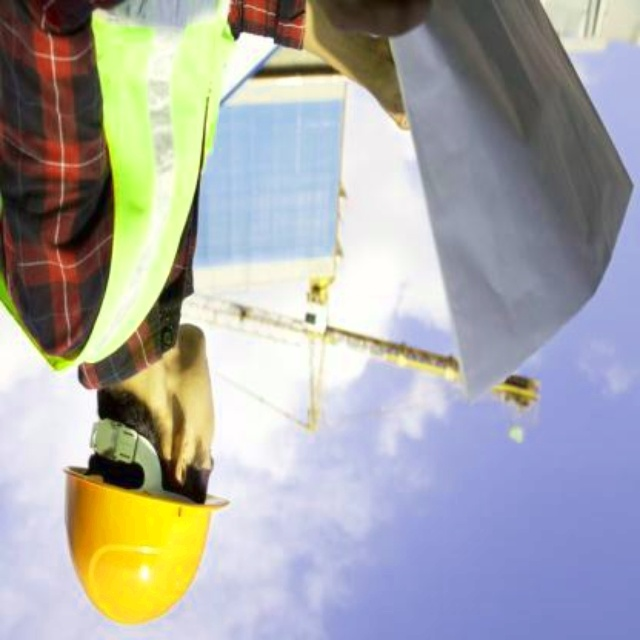vest-helm: (2, 12, 244, 372)
